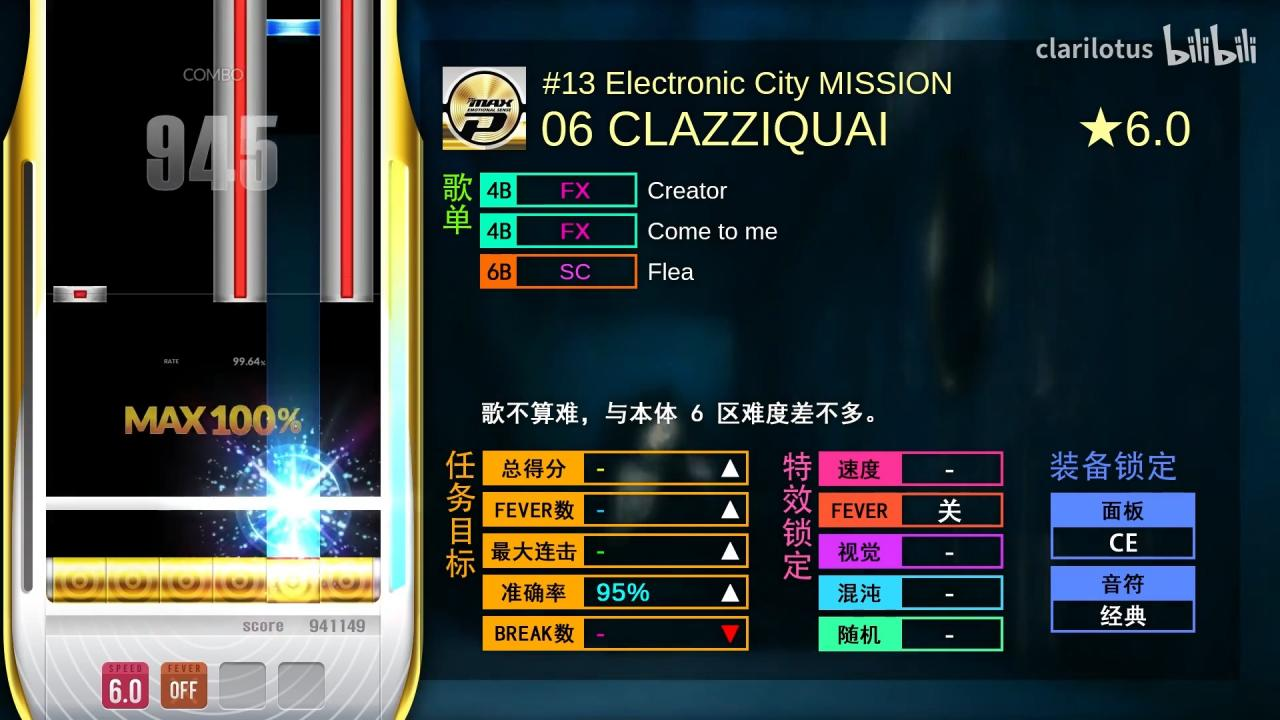hold-start: (320, 284, 373, 302), (213, 287, 267, 303)
note: (54, 285, 106, 303), (266, 19, 321, 36)
